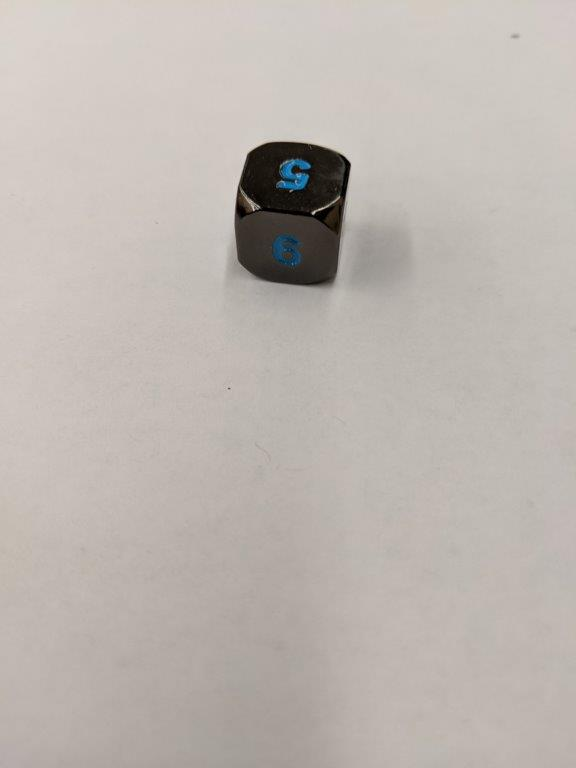d6-5: (235, 142, 352, 291)
